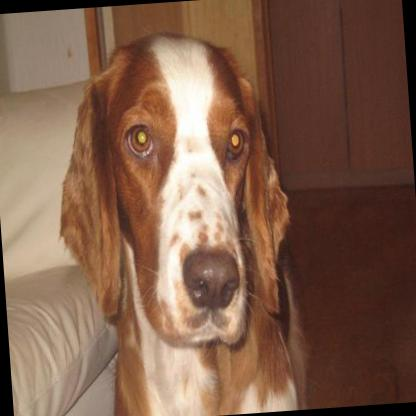Welsh_springer_spaniel: (41, 20, 307, 416)
